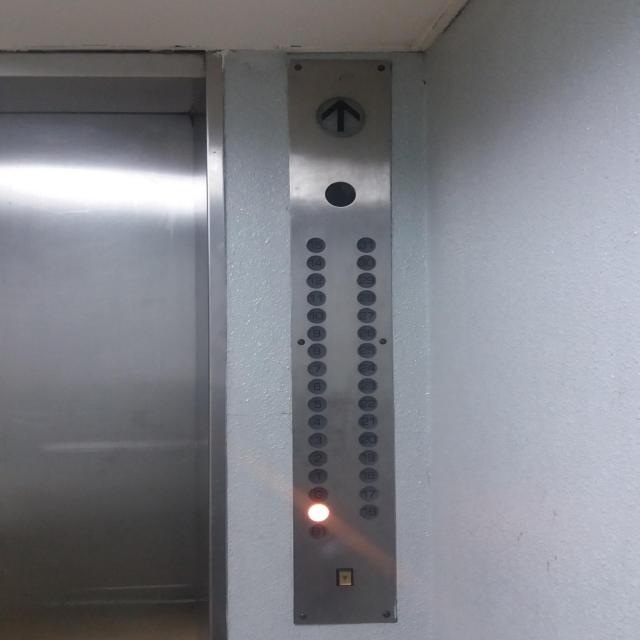1: (308, 468, 328, 484)
10: (307, 308, 327, 323)
11: (306, 290, 326, 306)
12: (306, 272, 325, 288)
14: (306, 255, 325, 270)
15: (306, 238, 326, 254)
16: (359, 504, 379, 520)
17: (359, 486, 379, 502)
18: (359, 468, 378, 483)
19: (358, 450, 378, 466)
2: (308, 450, 328, 466)
20: (358, 432, 378, 448)
21: (358, 413, 378, 429)
22: (358, 395, 377, 411)
23: (358, 378, 377, 393)
24: (357, 360, 377, 376)
25: (357, 342, 377, 358)
26: (357, 325, 377, 340)
27: (357, 307, 376, 323)
28: (356, 290, 377, 305)
29: (357, 272, 376, 288)
3: (308, 432, 328, 448)
30: (356, 254, 376, 271)
31: (357, 237, 376, 253)
4: (307, 414, 327, 430)
5: (308, 397, 328, 412)
6: (307, 378, 327, 394)
7: (307, 360, 327, 376)
8: (308, 344, 326, 359)
9: (306, 326, 326, 342)
B1: (309, 524, 328, 539)
G: (308, 486, 328, 502)
down: (335, 566, 353, 586)
empty: (322, 178, 358, 208), (308, 503, 330, 522)
up: (316, 94, 366, 136)
